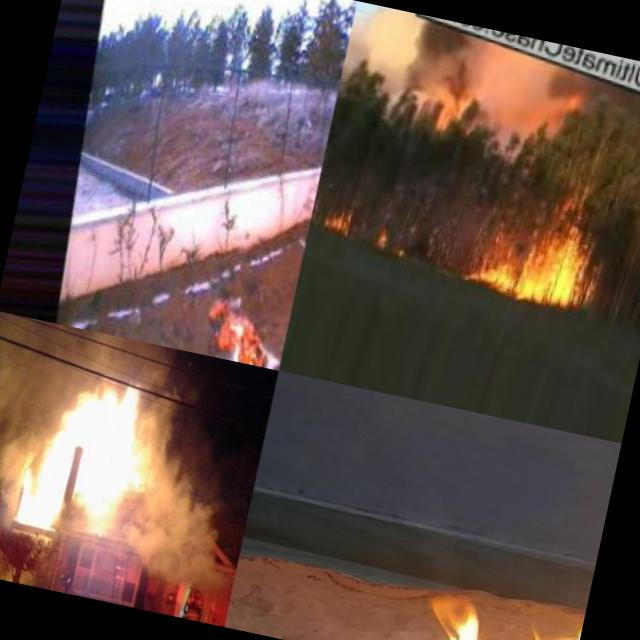fire: (421, 491, 604, 640), (466, 206, 602, 318), (66, 370, 150, 528), (10, 378, 86, 534), (195, 288, 277, 367), (364, 220, 422, 267), (318, 196, 362, 244)
smoke: (111, 384, 257, 593), (373, 29, 570, 164), (0, 346, 45, 530), (344, 1, 398, 72)
